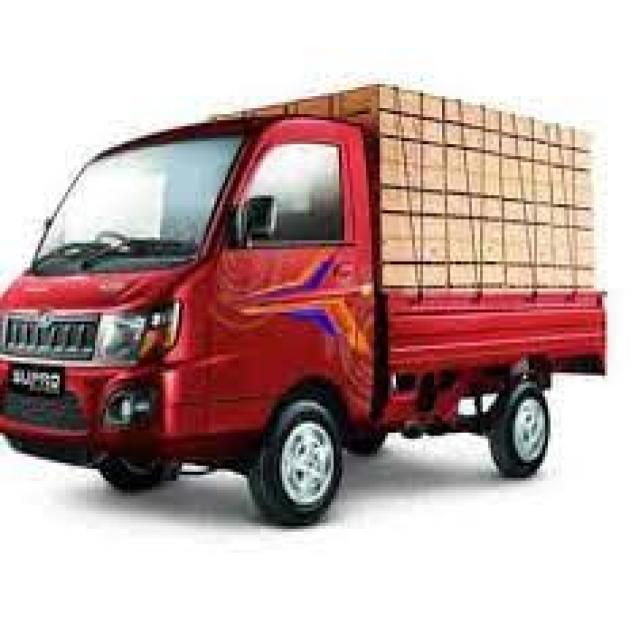Tempo: (0, 39, 604, 556)
